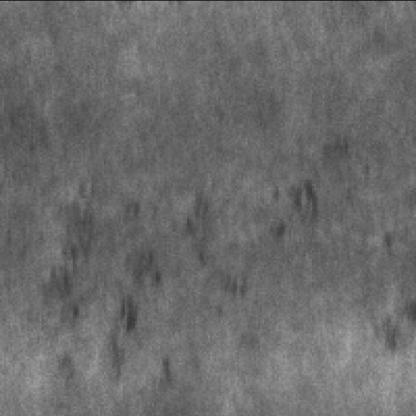rolled-in_scale: (179, 174, 318, 300), (91, 206, 183, 391), (29, 190, 85, 348), (370, 297, 414, 356)
